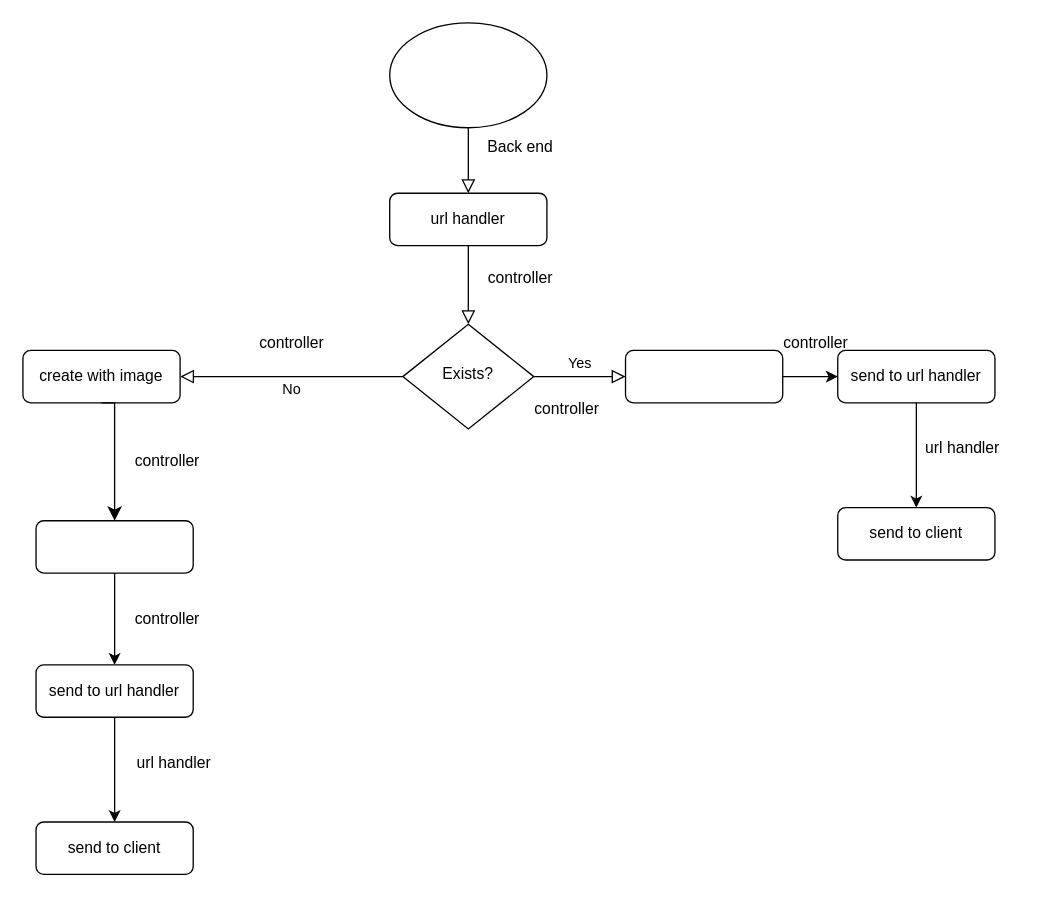
Image size: 1038x897. Some labels were removed from this diagram. Each missing label, with the centre of its shape:
"admin create user" belongs at point 467,75.
"create error response" belongs at point 703,376.
"create response" belongs at point 114,546.
